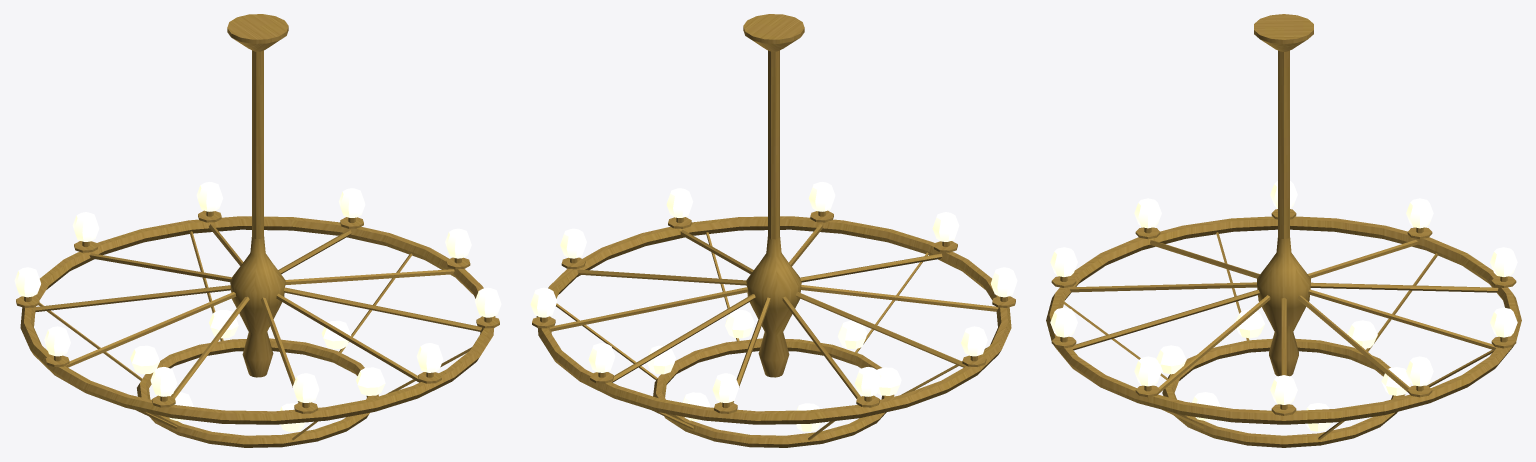
File: lustre-75.glb
The picture shows the model from 3 angles, left to right: view 1: azimuth 30°, elevation 25°; view 2: azimuth 150°, elevation 25°; view 3: azimuth 270°, elevation 25°; orthographic projection.
Parts seen in each view (by area): view 1: aro, aro-de-baixo, corpo, haste, canopla, braco.009, braco.004, braco.005, braco, braco.008, braco.003, braco.006 (+16 smaller); view 2: aro, aro-de-baixo, corpo, haste, canopla, braco.001, braco.006, braco.005, braco, braco.002, braco.007, braco.004 (+16 smaller); view 3: aro, aro-de-baixo, corpo, haste, canopla, braco.008, braco.002, braco.007, braco.003, braco.001, braco.009, braco.004 (+15 smaller).
Boxes of the visible parts, bbox=[...] form: aro: bbox=[20, 216, 495, 424]; aro-de-baixo: bbox=[137, 338, 378, 447]; corpo: bbox=[230, 237, 285, 377]; haste: bbox=[252, 50, 263, 239]; canopla: bbox=[227, 14, 288, 51]; braco.009: bbox=[284, 287, 481, 331]; braco.004: bbox=[33, 285, 230, 312]; braco.005: bbox=[65, 292, 236, 367]; braco: bbox=[285, 269, 454, 284]; braco.008: bbox=[276, 293, 420, 382]; braco.003: bbox=[89, 253, 231, 281]; braco.006: bbox=[170, 296, 249, 398]; aro: bbox=[536, 216, 1011, 424]; aro-de-baixo: bbox=[653, 338, 894, 447]; corpo: bbox=[746, 237, 801, 377]; haste: bbox=[768, 50, 779, 239]; canopla: bbox=[743, 14, 804, 51]; braco.001: bbox=[550, 287, 747, 331]; braco.006: bbox=[801, 285, 998, 311]; braco.005: bbox=[795, 292, 966, 367]; braco: bbox=[577, 269, 746, 285]; braco.002: bbox=[611, 294, 755, 382]; braco.007: bbox=[800, 253, 942, 282]; braco.004: bbox=[782, 296, 860, 398]; aro: bbox=[1046, 216, 1521, 424]; aro-de-baixo: bbox=[1162, 338, 1405, 447]; corpo: bbox=[1257, 237, 1310, 376]; haste: bbox=[1278, 50, 1289, 238]; canopla: bbox=[1254, 14, 1313, 51]; braco.008: bbox=[1071, 290, 1259, 350]; braco.002: bbox=[1308, 289, 1496, 350]; braco.007: bbox=[1069, 282, 1257, 292]; braco.003: bbox=[1310, 282, 1498, 292]; braco.001: bbox=[1297, 295, 1409, 391]; braco.009: bbox=[1158, 295, 1270, 393]; braco.004: bbox=[1308, 240, 1417, 278].
Bounding box in the file's own units: 1.59 × 1.33 × 1.54.
Materials: 2 (1 with a texture image).
